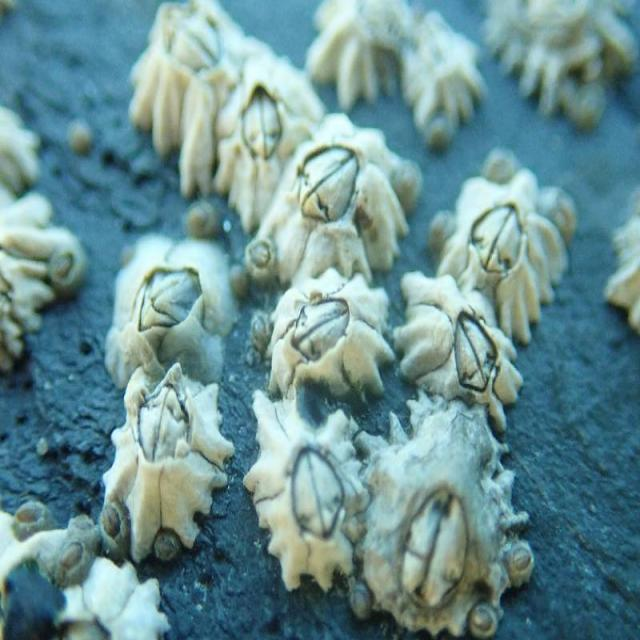barnacles: (367, 422, 539, 634), (265, 122, 413, 283), (438, 178, 575, 342), (101, 376, 232, 547), (249, 390, 360, 590), (110, 232, 242, 374), (390, 278, 516, 414), (123, 0, 230, 156), (216, 50, 309, 228), (267, 280, 395, 405)
